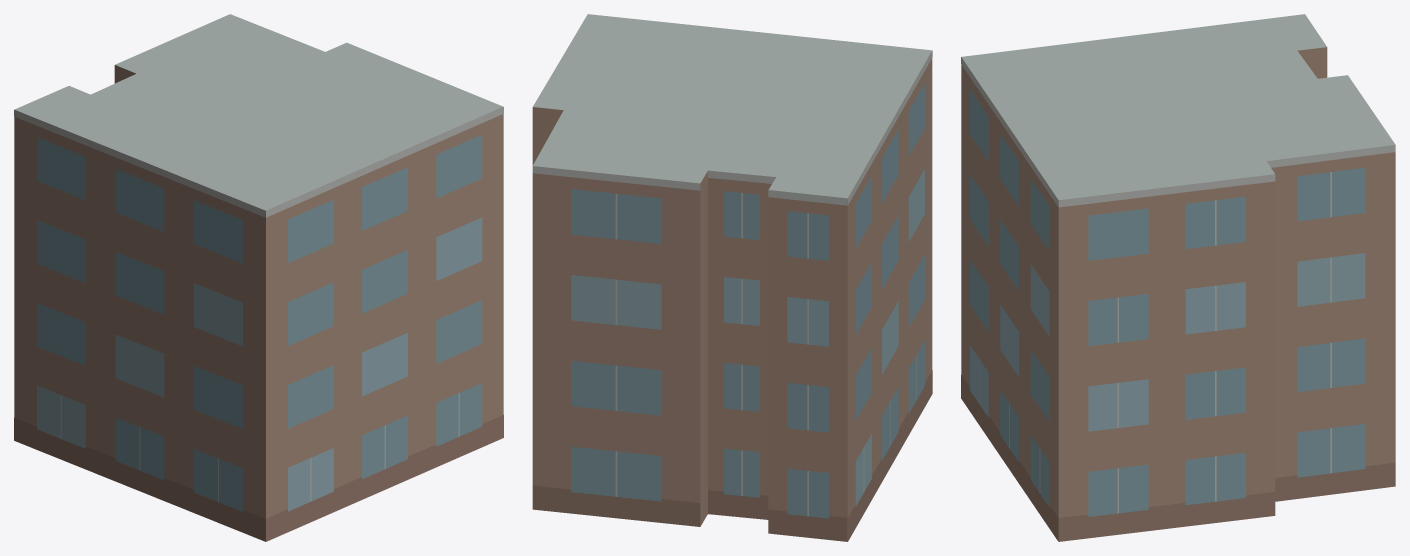
File: survey-upis-32685039.glb
The picture shows the model from 3 angles, left to right: view 1: azimuth 30°, elevation 25°; view 2: azimuth 150°, elevation 25°; view 3: azimuth 270°, elevation 25°; orthographic projection. The views are drawn at different scales.
Parts seen in each view (by area): view 1: survey-upis-32685039.tmp; view 2: survey-upis-32685039.tmp; view 3: survey-upis-32685039.tmp.
Boxes of the visible parts, bbox=[...] form: survey-upis-32685039.tmp: bbox=[14, 14, 503, 541]; survey-upis-32685039.tmp: bbox=[532, 14, 932, 541]; survey-upis-32685039.tmp: bbox=[961, 14, 1395, 541].
Bounding box in the file's own units: 13.58 × 11.6 × 13.39.
